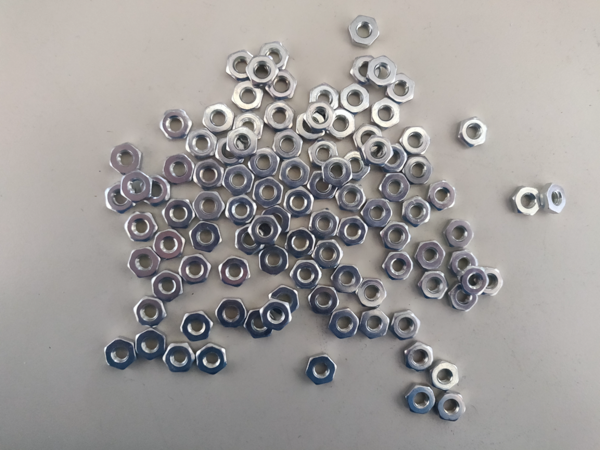nut: (260, 298, 293, 332), (121, 170, 153, 204), (219, 255, 251, 288), (153, 229, 186, 261), (105, 182, 138, 214), (110, 143, 143, 175), (194, 159, 226, 192), (203, 102, 235, 135), (264, 100, 296, 133), (105, 337, 136, 371), (128, 247, 162, 278), (249, 215, 283, 246), (227, 126, 258, 160), (306, 354, 338, 386), (252, 177, 284, 209), (164, 154, 196, 186), (186, 128, 218, 160), (253, 177, 285, 209), (136, 328, 167, 361), (125, 211, 158, 242), (362, 136, 395, 167), (283, 227, 316, 258), (280, 157, 311, 190), (225, 194, 256, 227), (160, 110, 193, 141), (189, 222, 223, 252), (152, 270, 183, 302), (180, 254, 212, 285), (456, 117, 487, 149), (509, 186, 541, 217), (390, 310, 421, 342), (359, 308, 390, 340), (348, 15, 380, 46), (308, 209, 340, 240), (371, 98, 402, 130), (367, 56, 399, 87), (273, 129, 304, 161), (224, 165, 255, 197), (322, 155, 352, 188), (213, 136, 246, 166), (163, 198, 197, 227), (428, 360, 459, 391), (326, 108, 357, 139), (266, 70, 297, 101), (226, 50, 257, 81), (197, 343, 227, 375), (181, 311, 213, 341), (141, 174, 171, 206), (308, 286, 340, 316), (338, 215, 368, 247), (232, 81, 264, 111), (134, 297, 167, 326), (381, 252, 414, 281), (331, 264, 364, 293), (247, 56, 280, 85), (329, 309, 360, 339), (415, 241, 446, 271), (386, 73, 416, 104), (259, 245, 289, 276), (163, 343, 195, 372), (216, 299, 248, 328), (444, 219, 476, 248), (428, 180, 457, 212), (291, 260, 323, 289), (244, 310, 276, 339), (193, 191, 225, 220), (233, 111, 265, 140), (313, 240, 343, 270), (284, 186, 314, 216), (402, 196, 431, 227), (380, 222, 411, 251), (405, 341, 433, 373), (450, 282, 479, 312), (419, 271, 449, 300), (404, 156, 434, 185), (362, 198, 391, 228), (304, 101, 334, 130), (236, 225, 265, 255), (379, 173, 410, 201), (400, 128, 431, 156), (310, 83, 339, 112), (406, 386, 436, 414), (357, 279, 387, 307), (342, 83, 370, 113), (343, 151, 371, 181), (353, 125, 383, 153), (296, 112, 326, 140), (336, 184, 367, 211), (438, 393, 466, 422), (460, 267, 489, 295), (252, 149, 280, 178), (308, 140, 338, 167), (269, 284, 299, 311), (259, 42, 289, 69), (308, 172, 337, 199), (540, 184, 566, 214), (476, 268, 503, 296), (264, 206, 291, 234), (382, 143, 407, 173), (351, 56, 379, 82), (448, 250, 477, 275)
